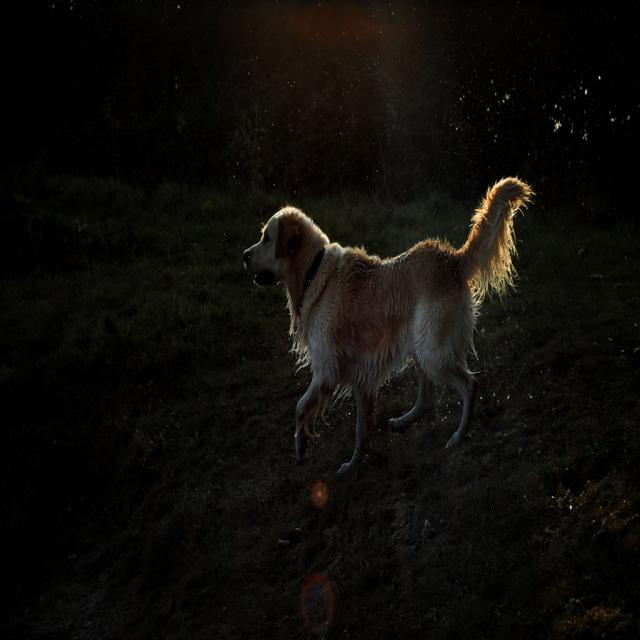Dog: (183, 220, 549, 497)
